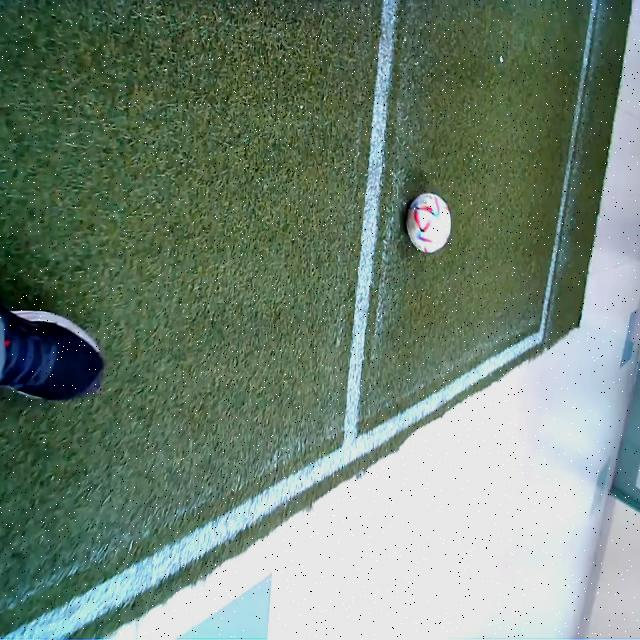ball: (407, 193, 451, 252)
